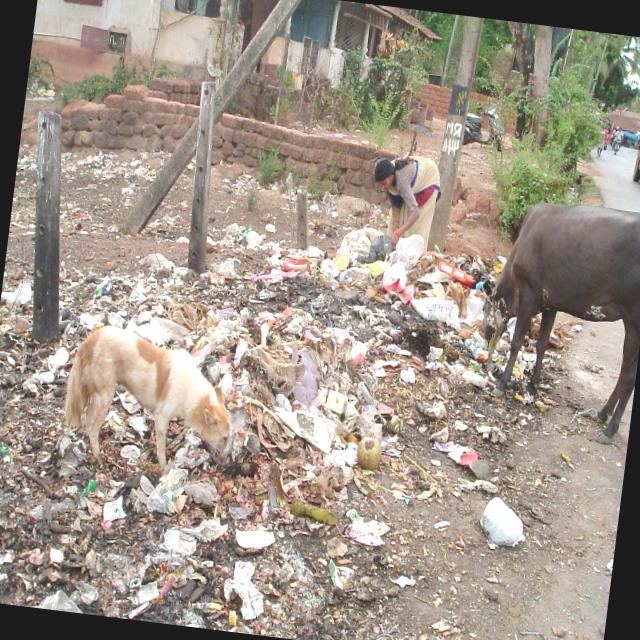garbage: (0, 187, 508, 640)
